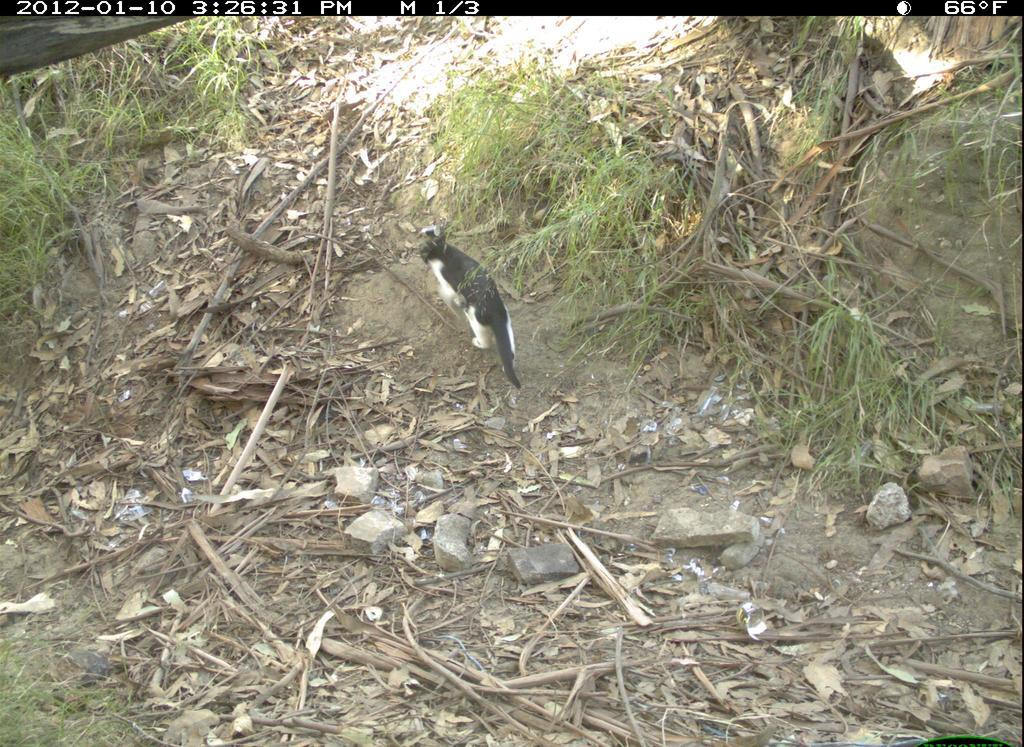cat: (411, 221, 538, 397)
